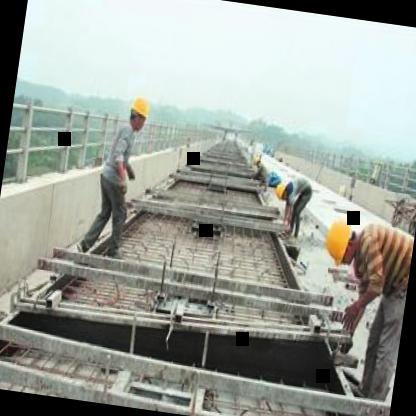helmet: (318, 209, 359, 272), (124, 90, 153, 134), (273, 179, 289, 203)
